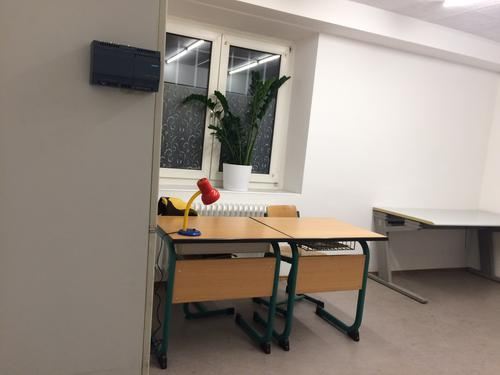iot2000: (89, 40, 162, 94)
